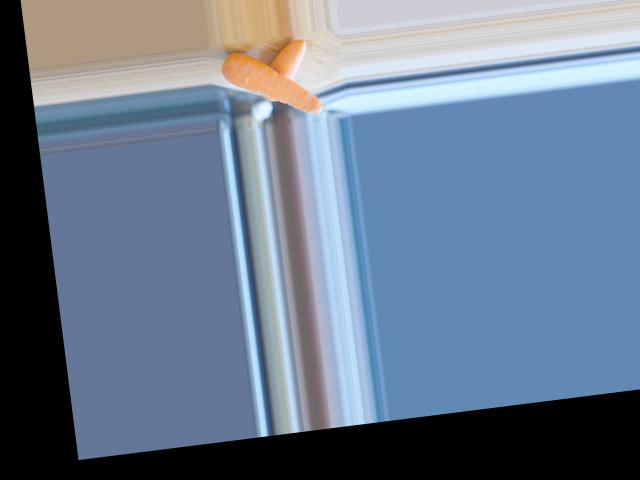carrot: (255, 39, 310, 102)
